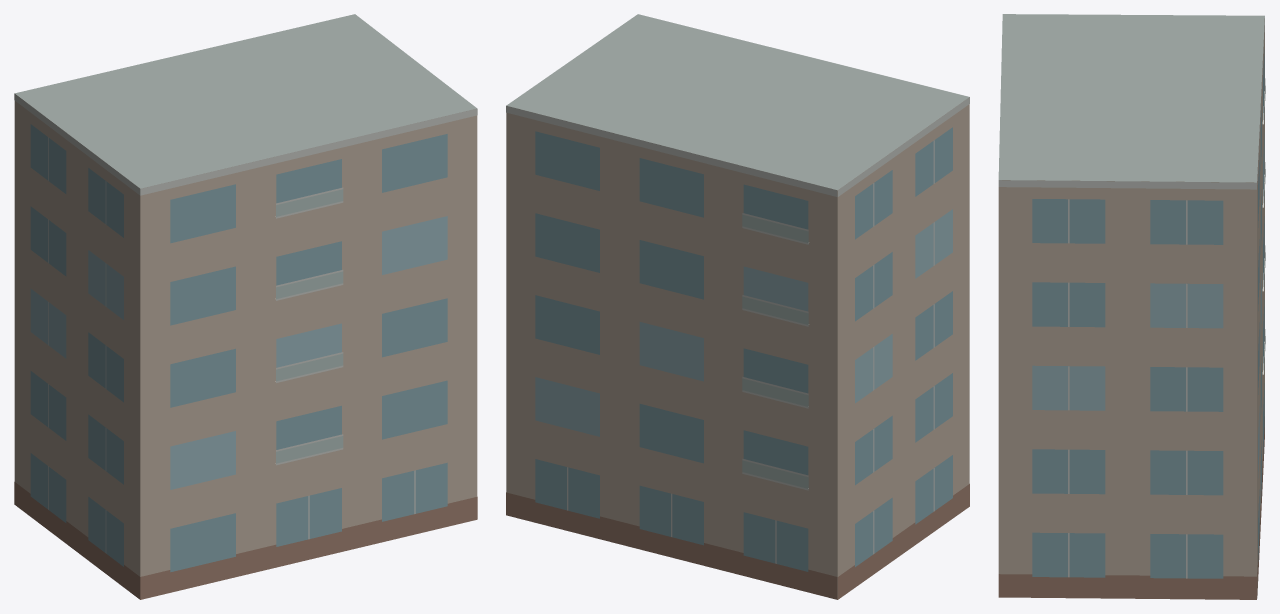
The model's file is survey-upis-32976744.glb.
The picture shows the model from 3 angles, left to right: view 1: azimuth 30°, elevation 25°; view 2: azimuth 150°, elevation 25°; view 3: azimuth 270°, elevation 25°; orthographic projection.
Parts seen in each view (by area): view 1: survey-upis-32976744.tmp; view 2: survey-upis-32976744.tmp; view 3: survey-upis-32976744.tmp.
Part boxes in pixels (x1,y1,x2,y2): survey-upis-32976744.tmp: [14, 14, 477, 599]; survey-upis-32976744.tmp: [506, 14, 969, 599]; survey-upis-32976744.tmp: [998, 14, 1265, 599].
Bounding box in the file's own units: 12.47 × 14.4 × 8.35.
